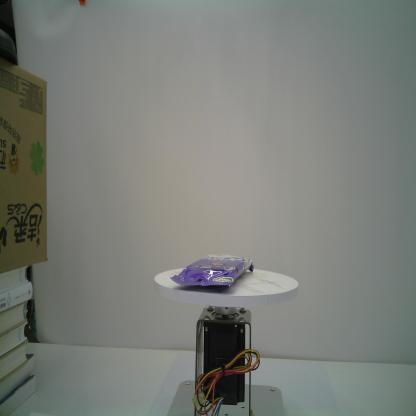Candy: (170, 254, 254, 288)
